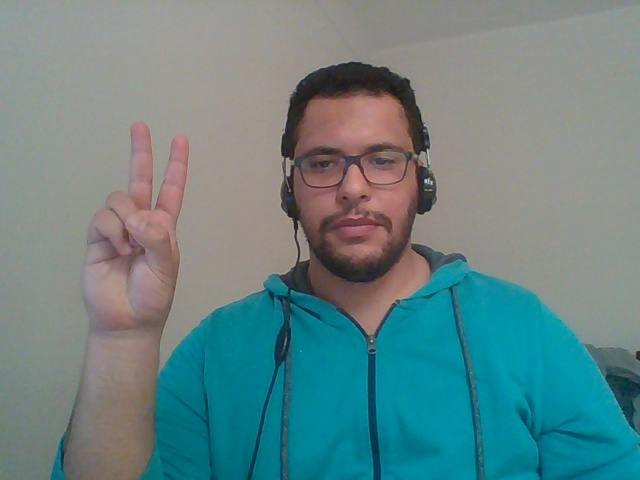vectory: (58, 106, 203, 346)
